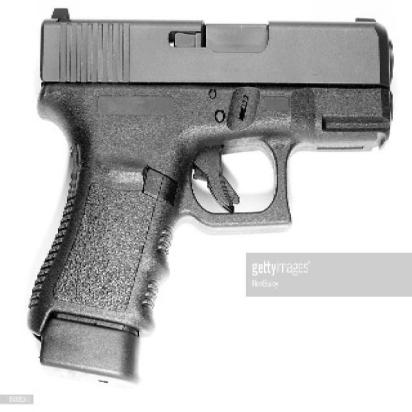Gun: (25, 0, 392, 380)
